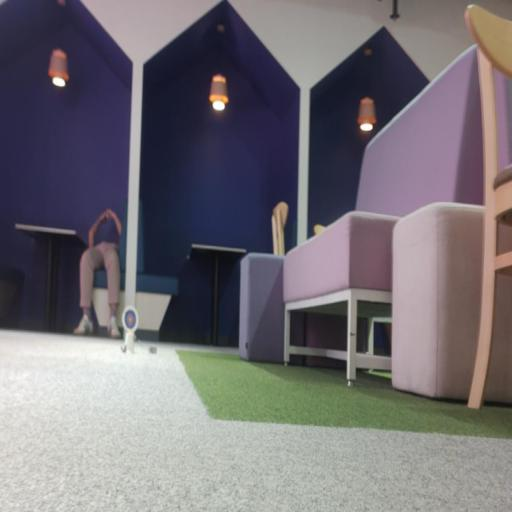target: (122, 306, 138, 334)
